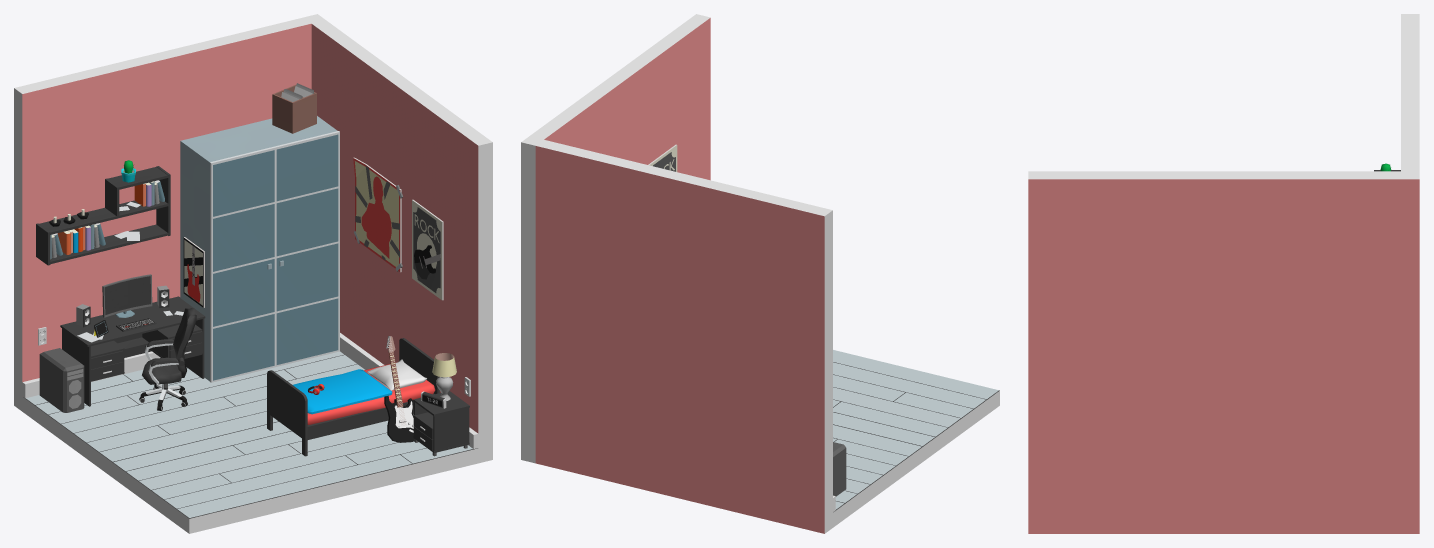
The model's file is room_10.glb.
The picture shows the model from 3 angles, left to right: view 1: azimuth 30°, elevation 25°; view 2: azimuth 150°, elevation 25°; view 3: azimuth 270°, elevation 25°; orthographic projection. The views are drawn at different scales.
Parts seen in each view (by area): view 1: Walls_133.001, Walls_133.002, closet_011.002, floor_012.002, Walls_011.004, bed_013.001, office_table_030.001, shelf_044.001, picture_039.001, shelf_027.001, picture_037.001, office_chair_001.001 (+10 smaller); view 2: Walls_133.001, Walls_133.002, floor_012.002, Walls_011.004, electronics_032.001; view 3: Walls_133.002, Walls_133.001.
Part boxes in pixels (x1,y1,x2,y2): Walls_133.001: (14, 17, 311, 411); Walls_133.002: (303, 14, 492, 463); closet_011.002: (180, 116, 339, 382); floor_012.002: (26, 351, 472, 517); Walls_011.004: (22, 354, 478, 533); bed_013.001: (267, 338, 439, 456); office_table_030.001: (60, 296, 205, 406); shelf_044.001: (36, 166, 170, 265); picture_039.001: (353, 157, 403, 272); shelf_027.001: (413, 391, 469, 456); picture_037.001: (412, 199, 443, 300); office_chair_001.001: (139, 308, 196, 410); Walls_133.001: (535, 140, 832, 533); Walls_133.002: (521, 14, 710, 463); floor_012.002: (833, 350, 998, 509); Walls_011.004: (833, 362, 999, 527); electronics_032.001: (833, 442, 846, 496); Walls_133.002: (1028, 171, 1419, 533); Walls_133.001: (1401, 14, 1419, 171).
Bounding box in the file's own units: 4.2 × 4.2 × 4.2.
1 material, 1 textured.
